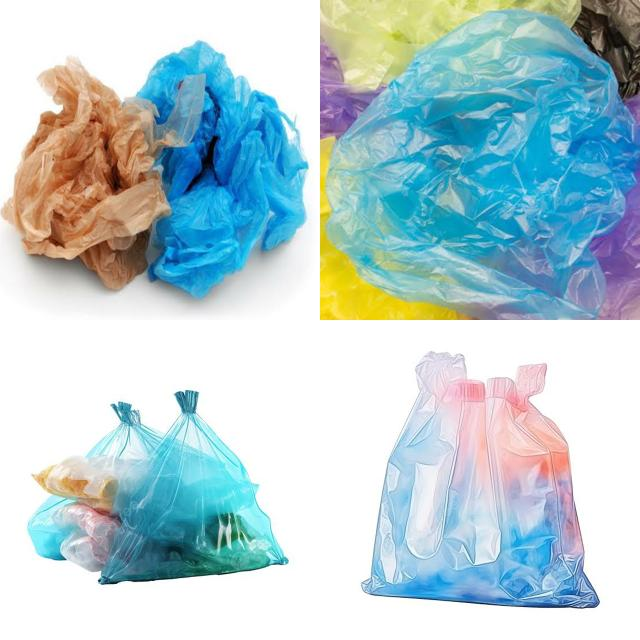Single-layer Plastic: (326, 10, 640, 319), (362, 352, 598, 607), (1, 58, 205, 288), (138, 41, 308, 298), (100, 391, 288, 584), (86, 401, 162, 461)
